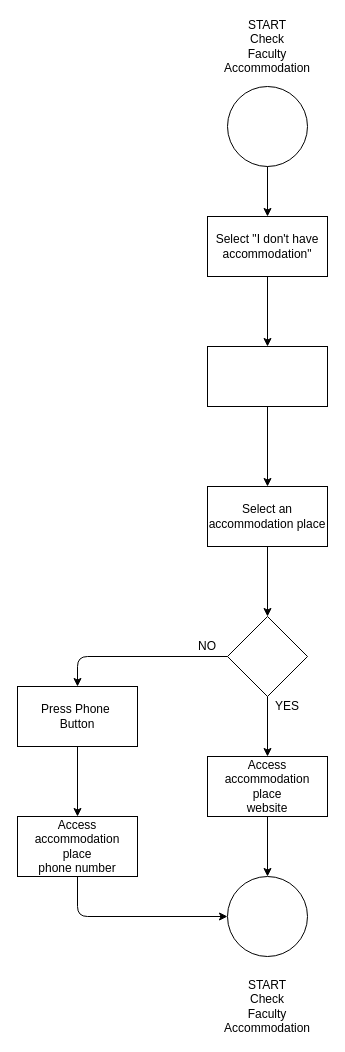
Image size: 345x1052. Some labels were removed from this diagram. Here are the shapes that lost their labels. From the top down, the centre of each, then its label:
point 267,376: Select a faculty
point 267,656: Press Website Button
